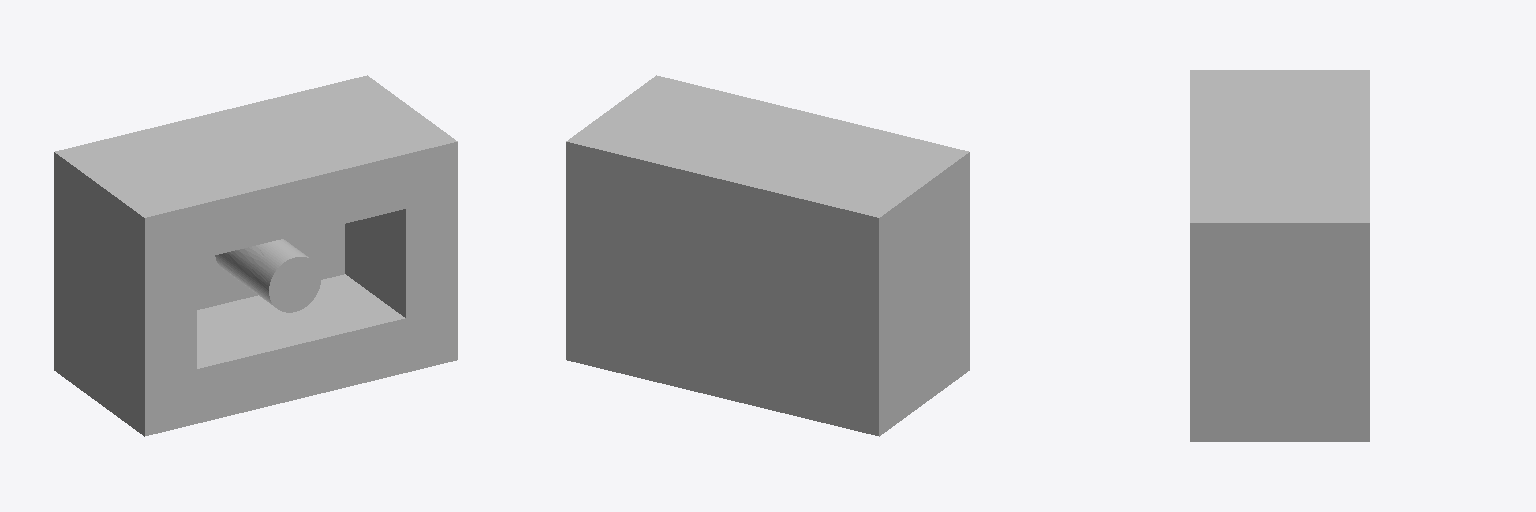
File: tank34.obj
3 renders of one model, left to right at view 1: azimuth 30°, elevation 25°; view 2: azimuth 150°, elevation 25°; view 3: azimuth 270°, elevation 25°, orthographic.
Size of the model in its own units: 3 by 2 by 1.5.